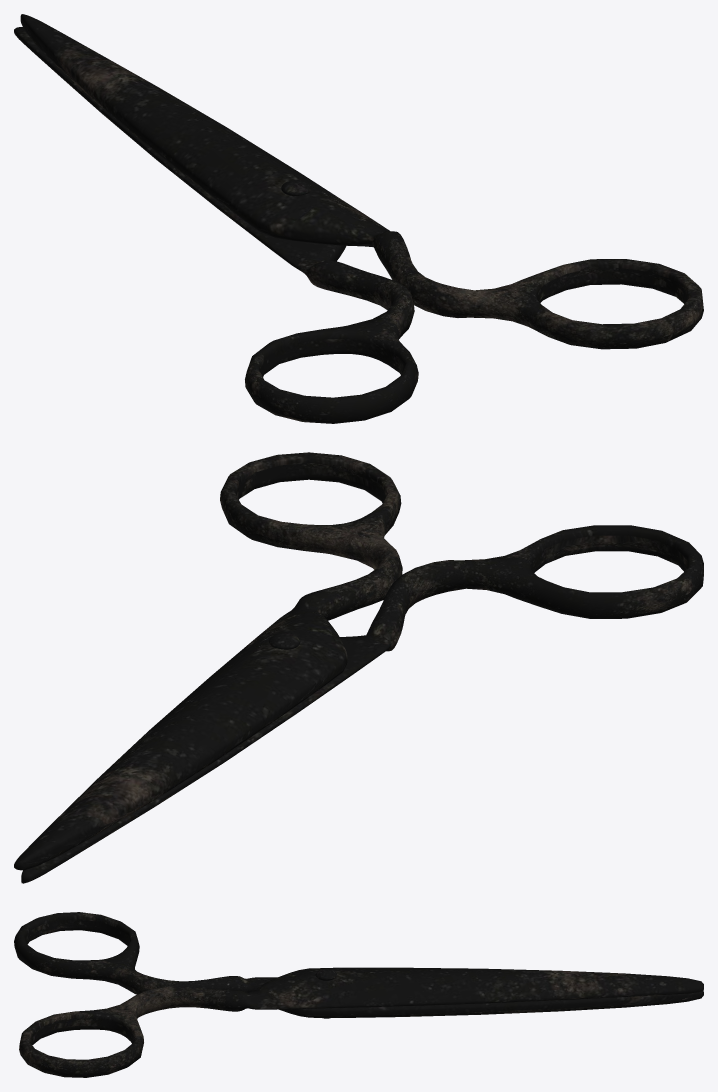
The model's file is scissors.glb.
The picture shows the model from 3 angles, top to bottom: view 1: azimuth 30°, elevation 25°; view 2: azimuth 150°, elevation 25°; view 3: azimuth 270°, elevation 25°; orthographic projection. The views are drawn at different scales.
Visible parts, largest first — view 1: Skarje_Type_02_LOD1; view 2: Skarje_Type_02_LOD1; view 3: Skarje_Type_02_LOD1.
Part boxes in pixels (x1=…): Skarje_Type_02_LOD1: x1=14, y1=14, x2=703, y2=423; Skarje_Type_02_LOD1: x1=14, y1=452, x2=703, y2=883; Skarje_Type_02_LOD1: x1=14, y1=912, x2=703, y2=1077.
Size of the model in its own units: 0.1174 by 0.0166 by 0.2233.
Materials: 1 (1 with a texture image).
